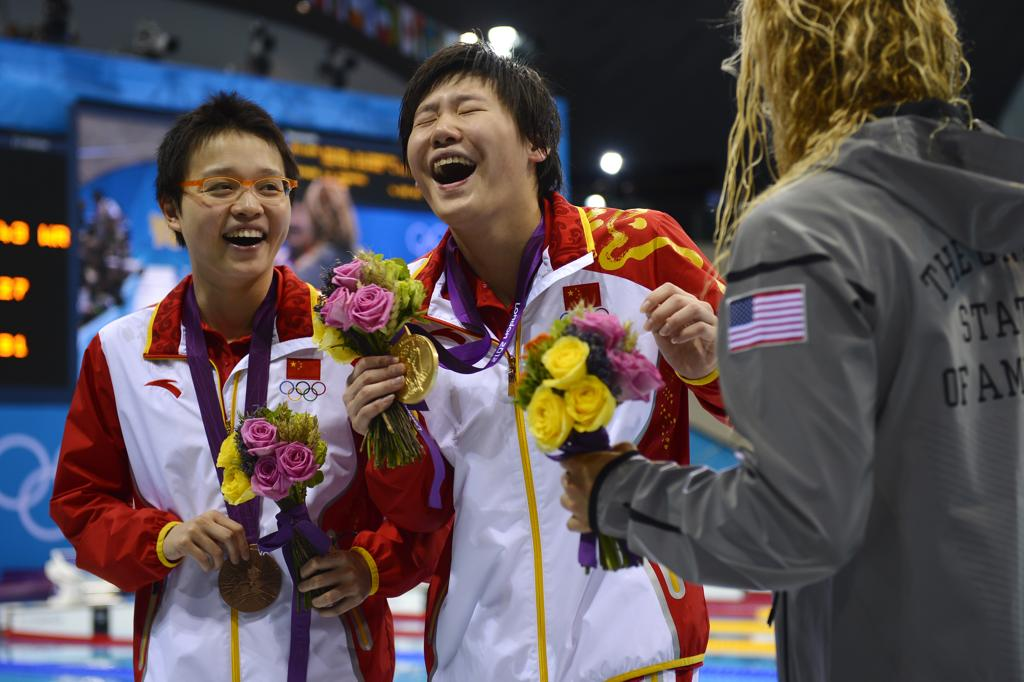face: (186, 134, 292, 282), (408, 80, 518, 214)
